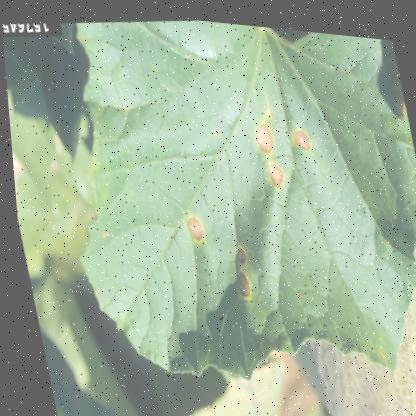AlternariaBrassicicola: (225, 237, 253, 300), (178, 207, 203, 243), (249, 114, 274, 150), (261, 154, 284, 185), (288, 118, 310, 149)
